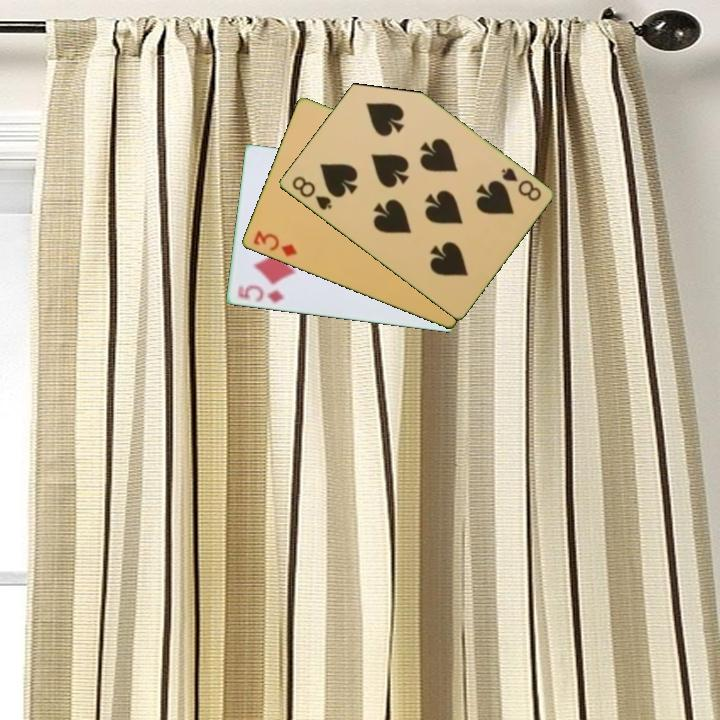3d: (249, 227, 300, 260)
5d: (233, 282, 286, 306)
8s: (288, 173, 335, 213), (497, 164, 544, 204)
